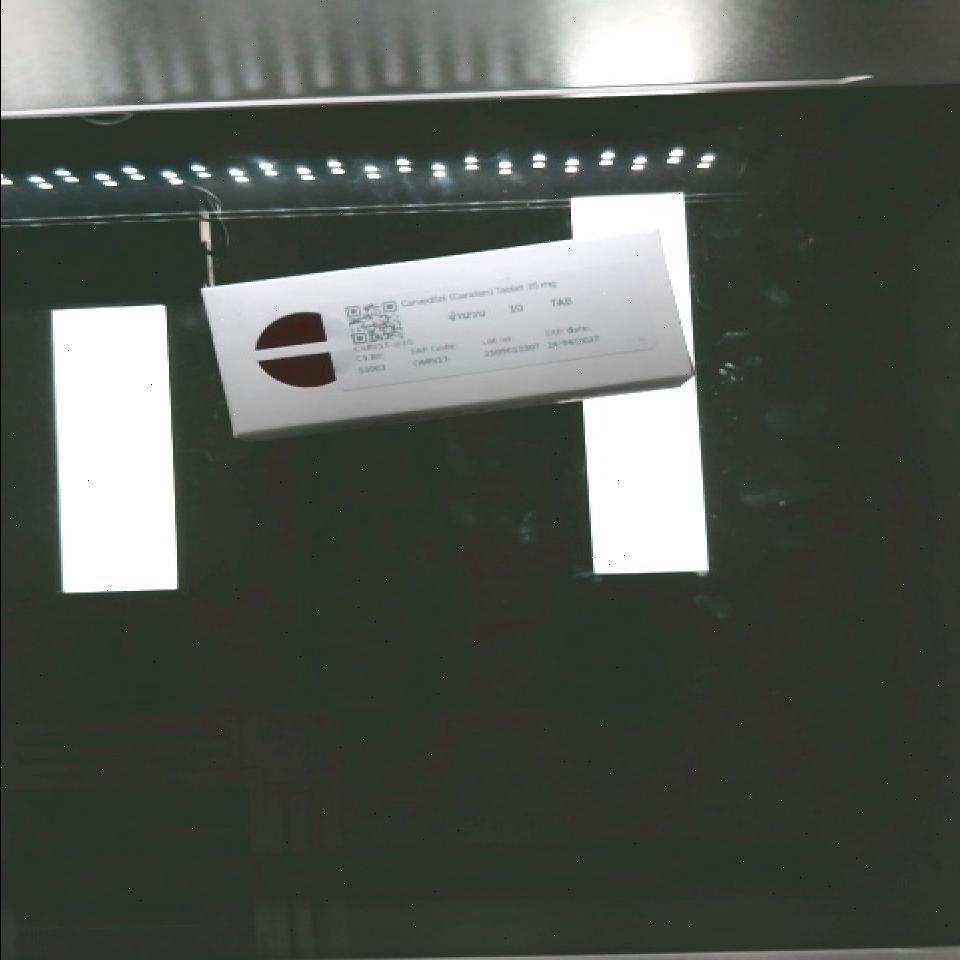medicine_box: (195, 228, 695, 437)
qr_code: (337, 289, 413, 355)
